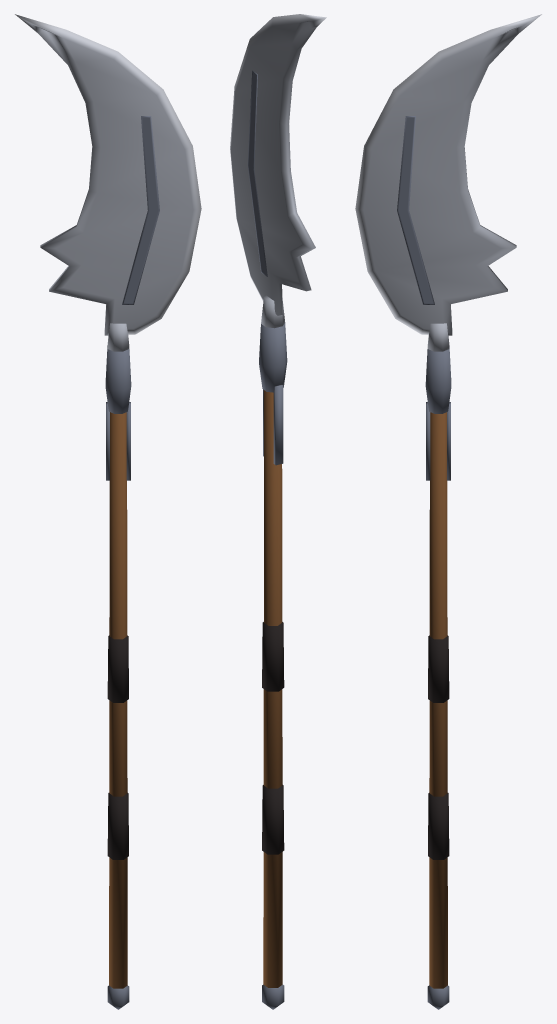
Rendered from lance.glb.
3 renders of one model, left to right at view 1: azimuth 90°, elevation 25°; view 2: azimuth 210°, elevation 25°; view 3: azimuth 270°, elevation 25°, orthographic. The views are drawn at different scales.
Visible parts, largest first — view 1: lance_steel, lance_wood, lance_wrap; view 2: lance_steel, lance_wood, lance_wrap; view 3: lance_steel, lance_wood, lance_wrap.
Boxes of the visible parts, x1,y1,x2,y2 form: lance_steel: (15,14,201,1009); lance_wood: (109,412,127,988); lance_wrap: (107,635,128,859); lance_steel: (230,14,326,1009); lance_wood: (263,390,282,987); lance_wrap: (262,622,284,854); lance_steel: (355,14,541,1009); lance_wood: (429,412,447,988); lance_wrap: (428,635,449,859).
Size of the model in its own units: 0.0739 by 3.17 by 0.54.
